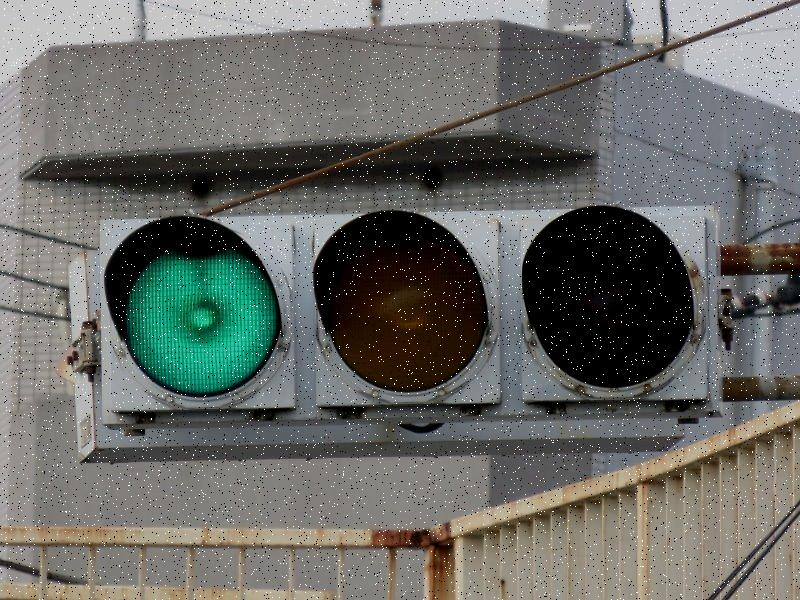cars: (96, 217, 725, 406)
